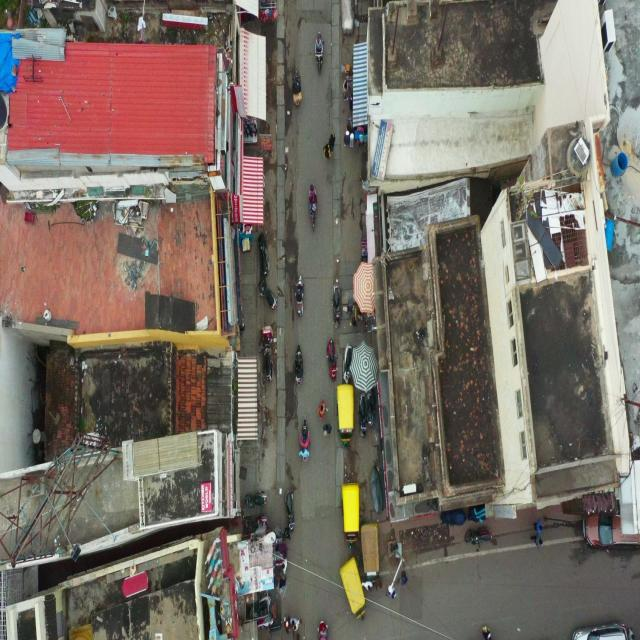Cycle: (258, 323, 279, 382), (327, 274, 346, 328), (302, 182, 321, 232), (296, 410, 312, 469), (290, 338, 307, 389), (242, 483, 268, 511), (311, 29, 327, 72), (258, 283, 281, 312), (258, 225, 270, 280), (290, 64, 302, 113), (242, 512, 268, 534), (293, 278, 305, 323), (327, 340, 339, 383), (284, 491, 296, 532), (342, 344, 352, 390)
